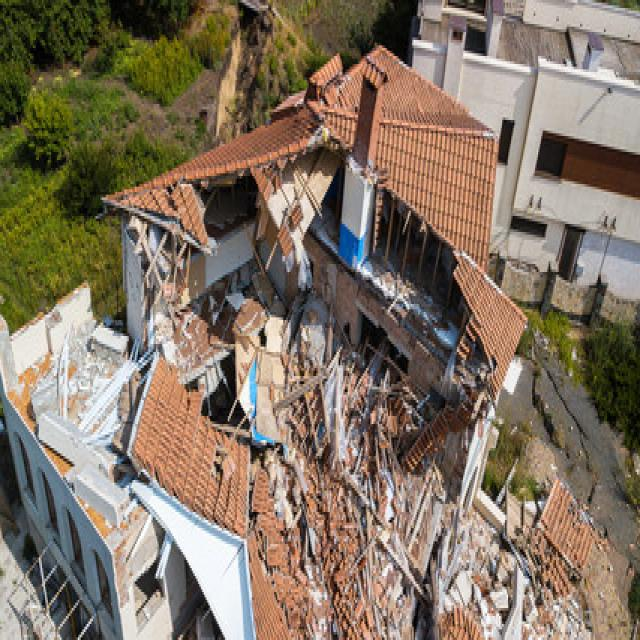Destroyed_building: (113, 1, 541, 640)
